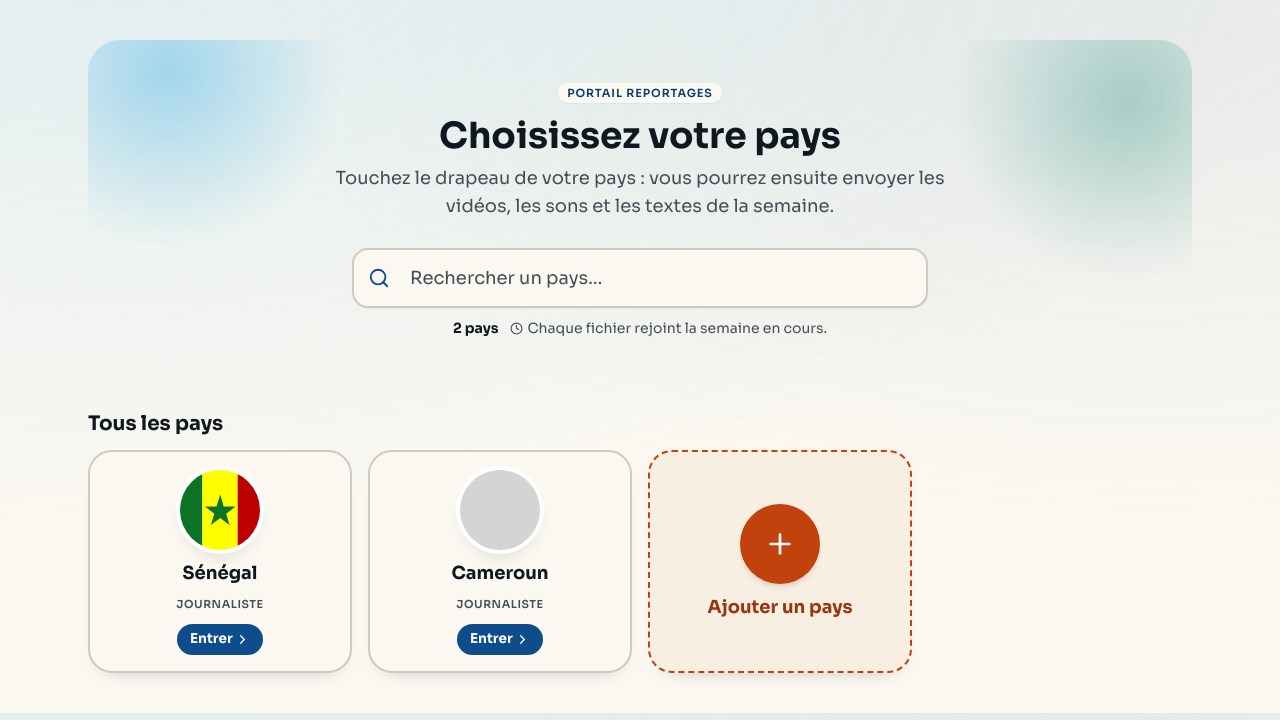
it: HomeView › opens the dialog when "Ajouter un pays" is clicked
This screenshot has width=1280, height=720.
Step 1. Click the button with aria-label "Ajouter un nouveau pays" → (780, 562), box [648,450,912,673]
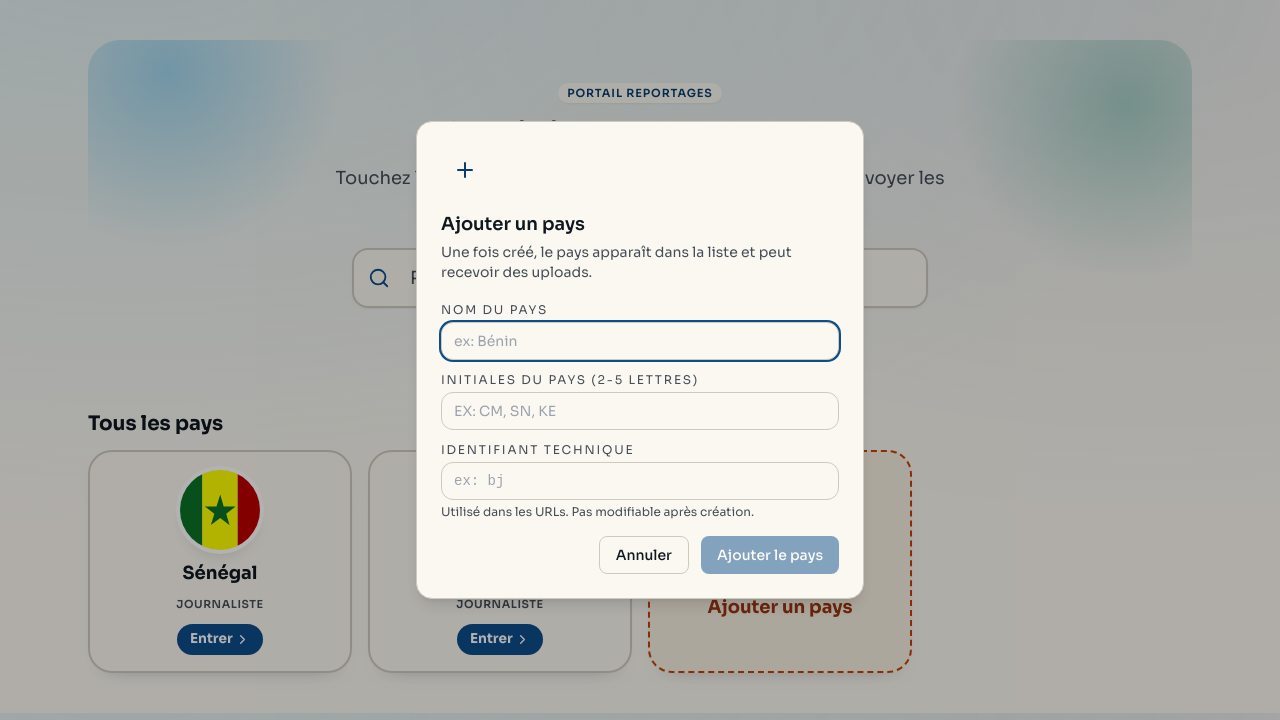
Now the dialog "Ajouter un pays" is shown
